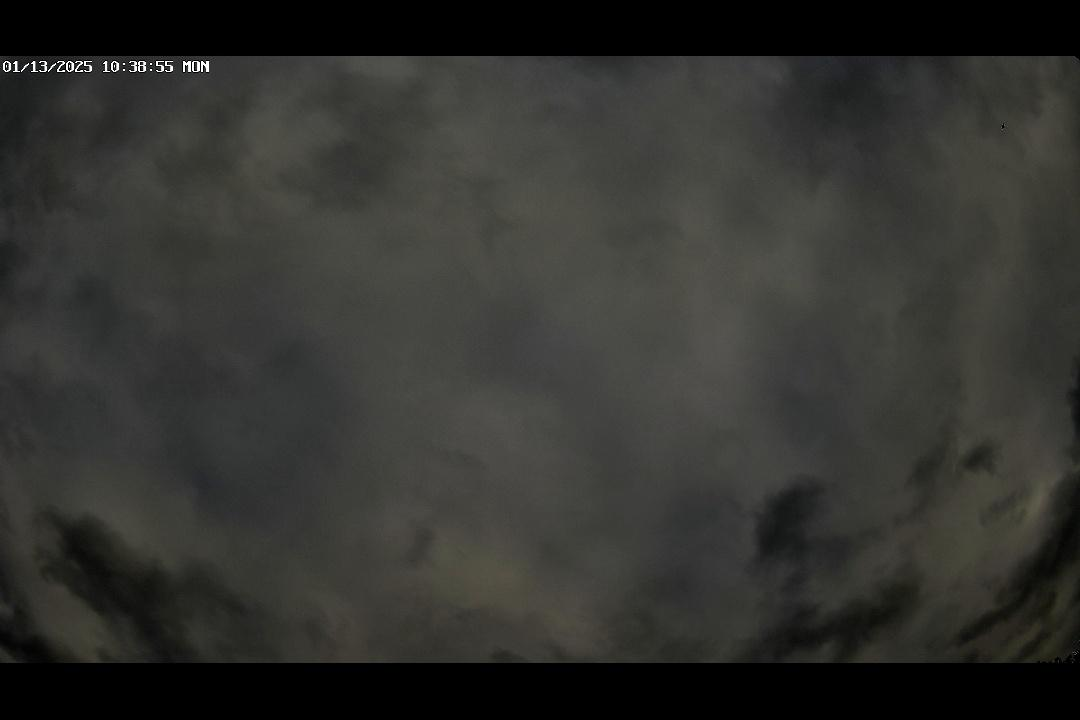Plane: (995, 117, 1013, 134)
